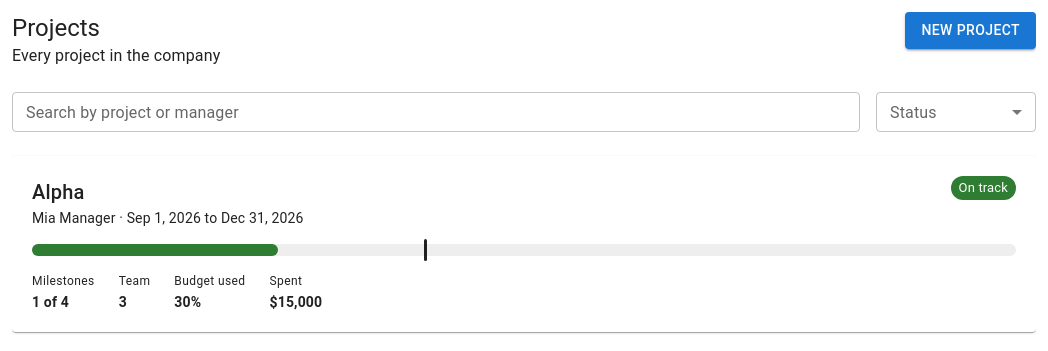
Test case: Projects list › filters by status
The image size is (1048, 351).
Check: the heading "Alpha" is shown, box [32,180,84,204]
Click the dropdown named "Status" at x=956, y=112, box [876,92,1036,132]
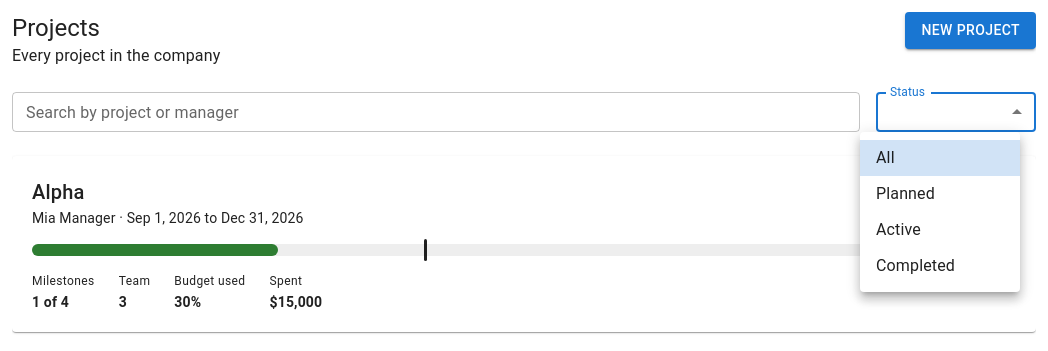
Check: the options read "All", "Planned", "Active", "Completed", in this order
Click the option "Completed" at x=916, y=266, box [876,256,955,275]
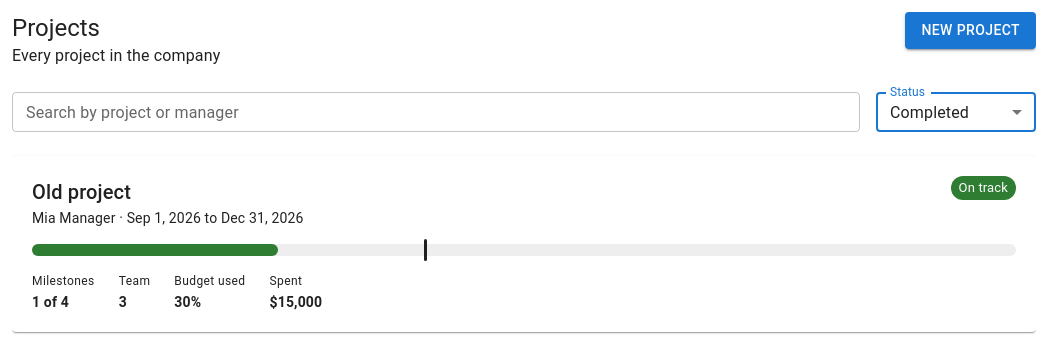
Check: the heading "Old project" is shown, box [32,180,131,204]
Check: the link "Alpha" is gone
